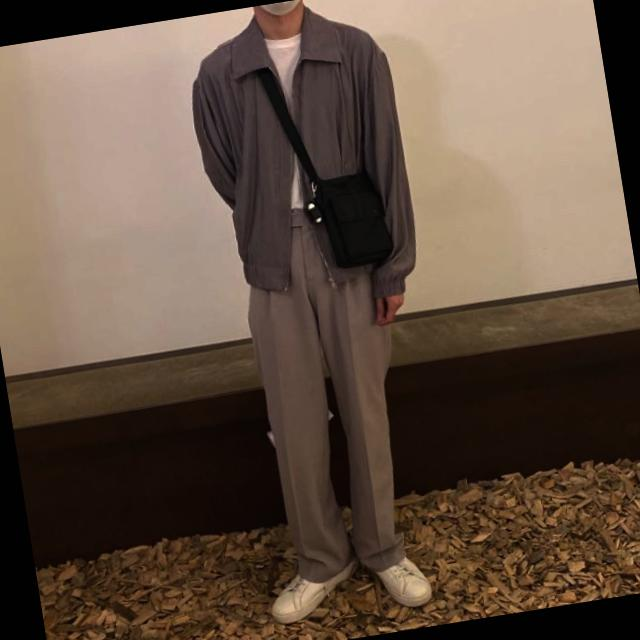jacket: (174, 0, 422, 320)
slacks: (228, 190, 432, 590)
